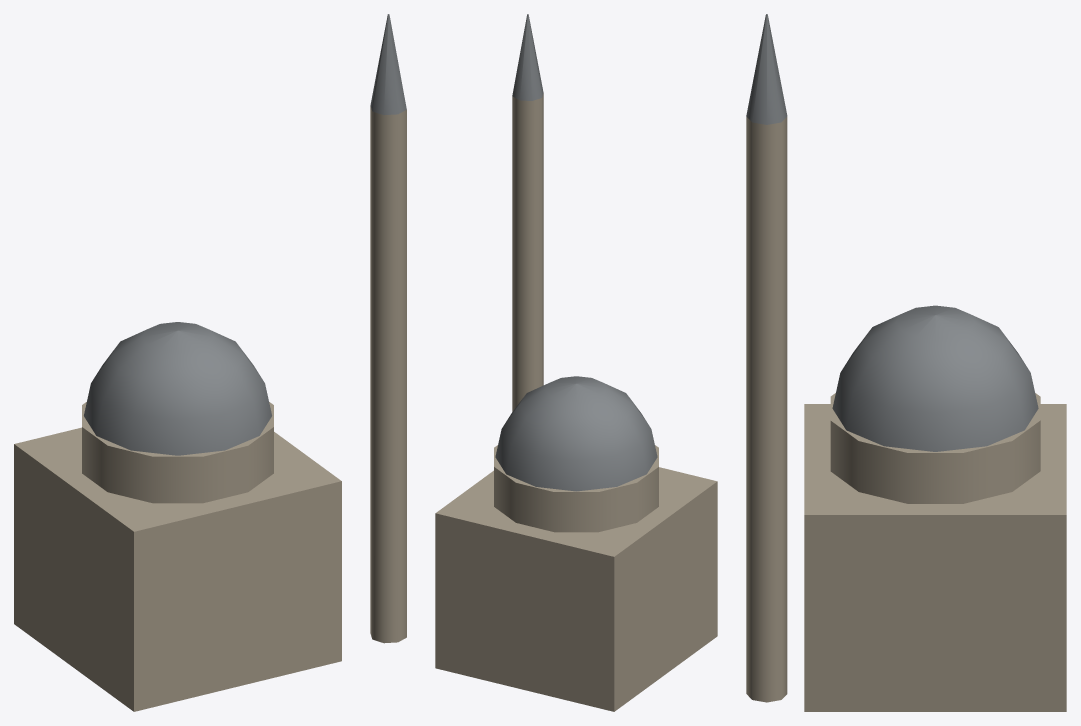
The model's file is bina_18_u.glb.
3 views of the same model, side by side, from view 1: azimuth 30°, elevation 25°; view 2: azimuth 150°, elevation 25°; view 3: azimuth 270°, elevation 25° (orthographic). The views are drawn at different scales.
Visible parts, largest first — view 1: P18_Mahalle_Camii_L2.001; view 2: P18_Mahalle_Camii_L2.001; view 3: P18_Mahalle_Camii_L2.001.
Boxes of the visible parts, box(x1,y1,x2,y2) form: P18_Mahalle_Camii_L2.001: box(14, 14, 406, 711); P18_Mahalle_Camii_L2.001: box(435, 14, 717, 711); P18_Mahalle_Camii_L2.001: box(746, 14, 1066, 711).
Size of the model in its own units: 17.1 by 42 by 17.1.
